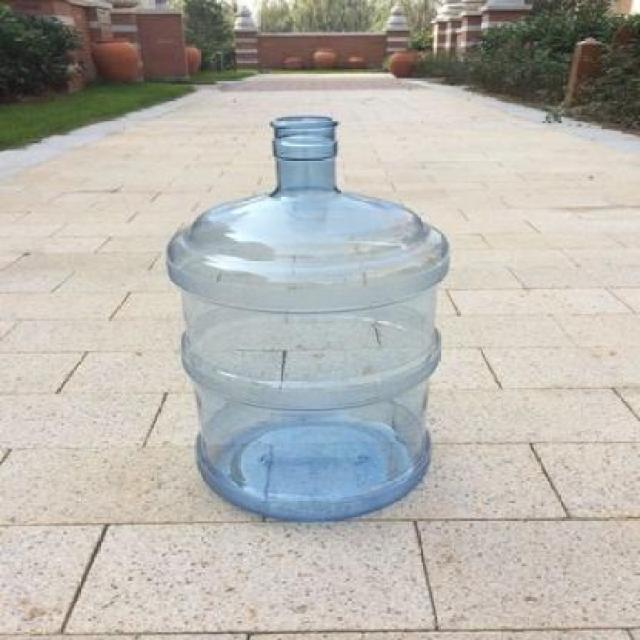coolerbottle: (158, 110, 460, 526)
